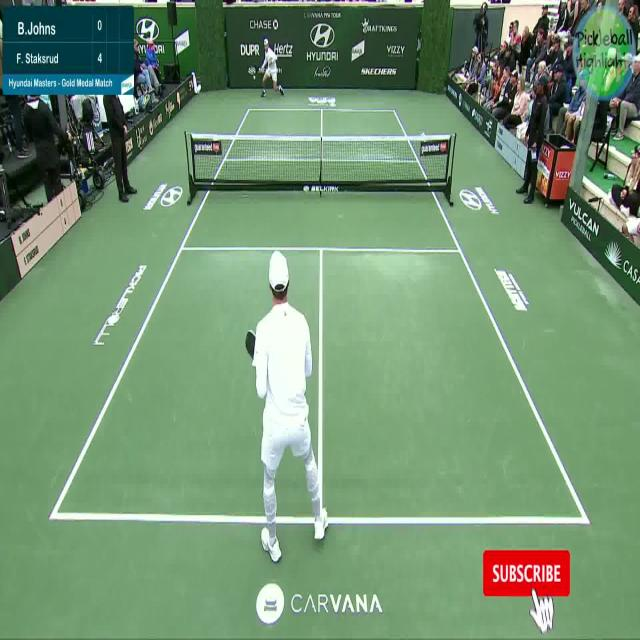Court: (51, 110, 587, 521)
ball: (252, 73, 257, 82)
